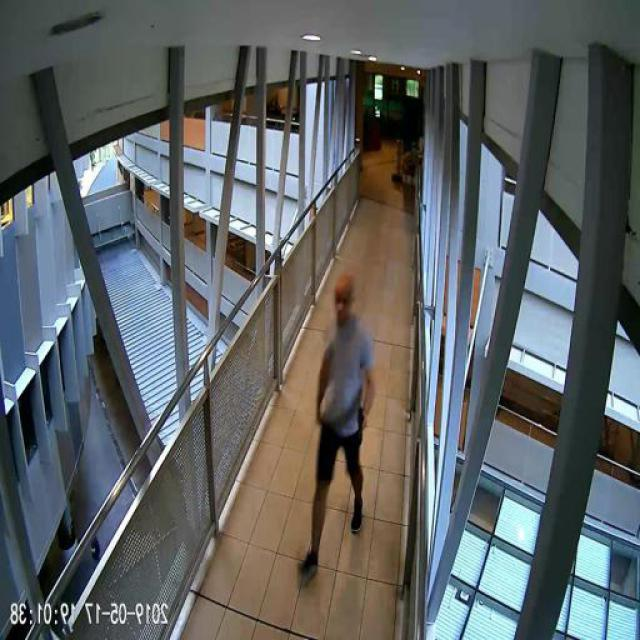weapon: (356, 406, 368, 455)
